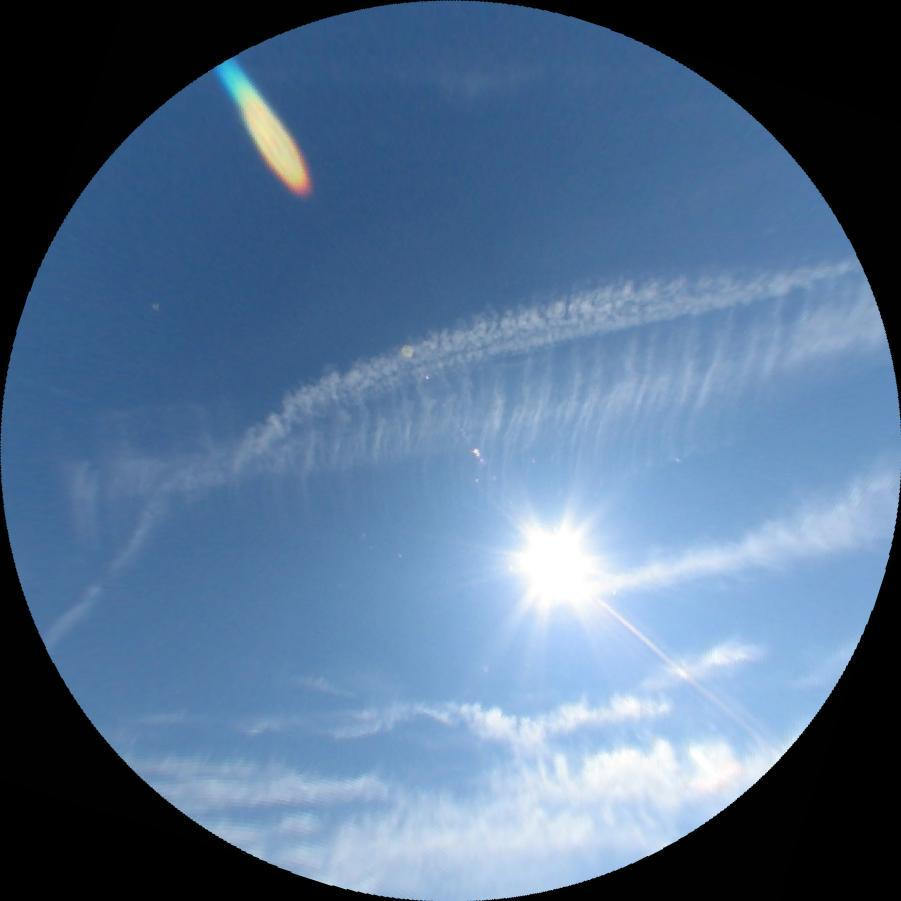contrail veryold: (571, 463, 901, 633)
parasite: (582, 583, 782, 764)
sun: (523, 534, 589, 603)
